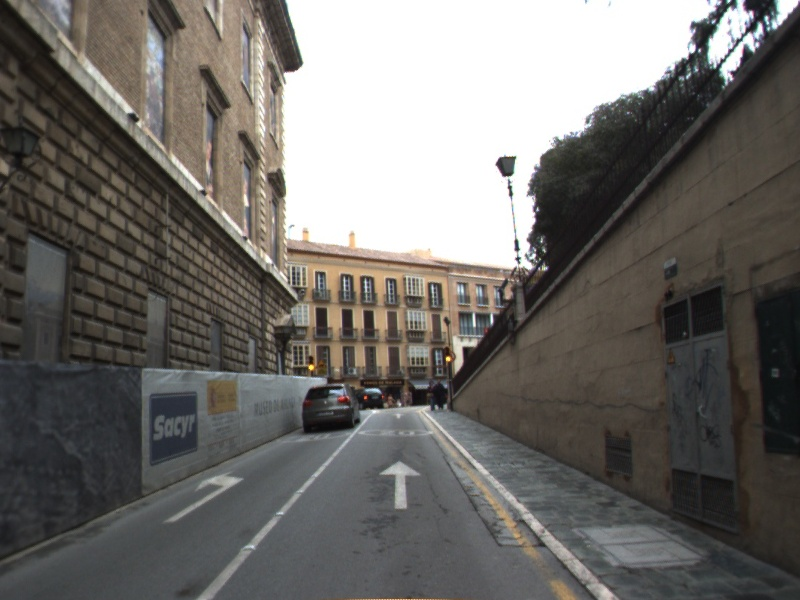LEFT: (161, 468, 246, 525)
STRAIGHT: (377, 459, 424, 511), (391, 412, 406, 420)
